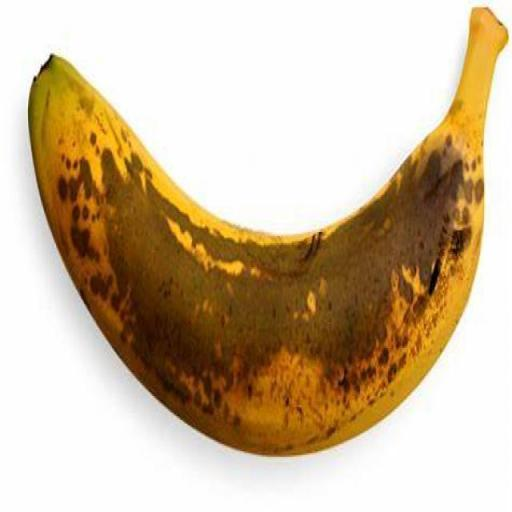fruit: (29, 9, 505, 453)
